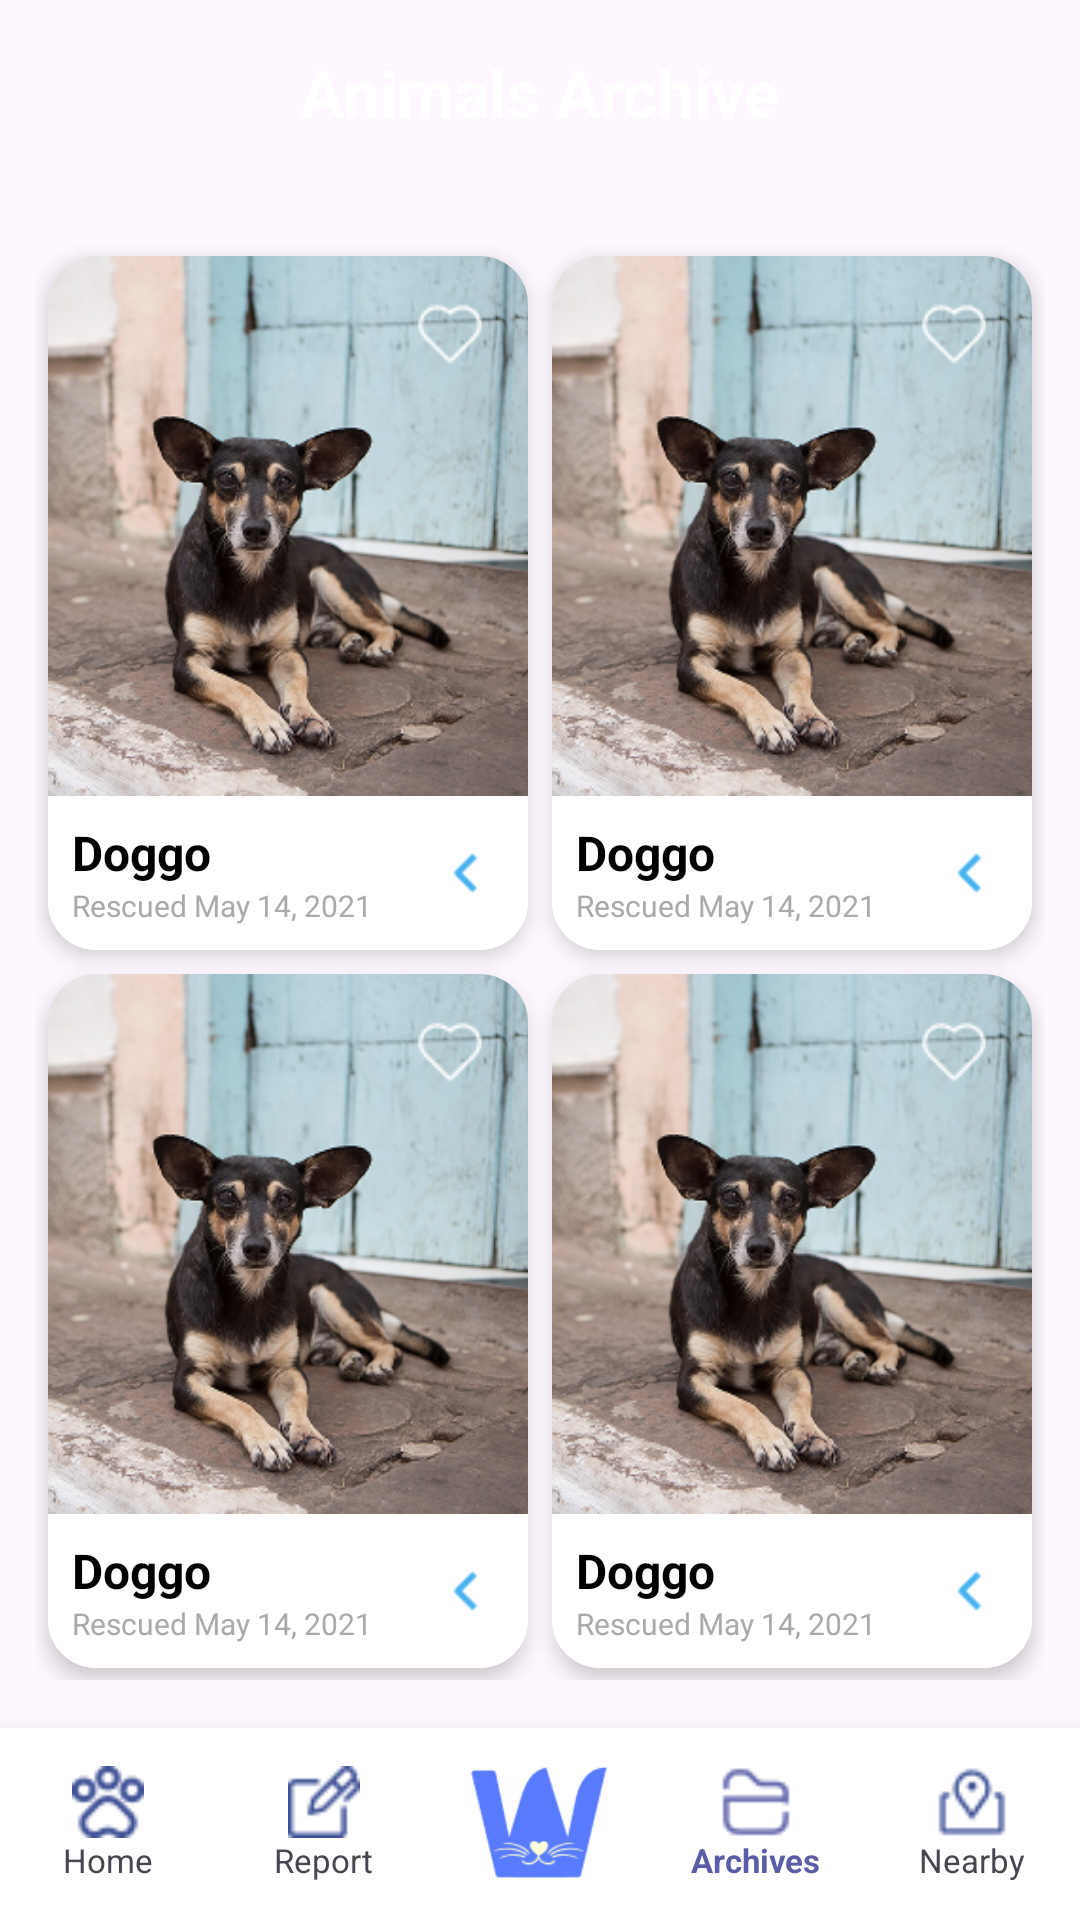

Locate icon controls on the screen. Image size 1080×1920, boxes as (x1, y1, x2, y2).
back arrow: (453, 853, 477, 893), (957, 853, 981, 893), (453, 1571, 477, 1611), (957, 1571, 981, 1611)
favorite: (408, 305, 492, 363), (912, 305, 996, 363), (408, 1023, 492, 1081), (912, 1023, 996, 1081)
